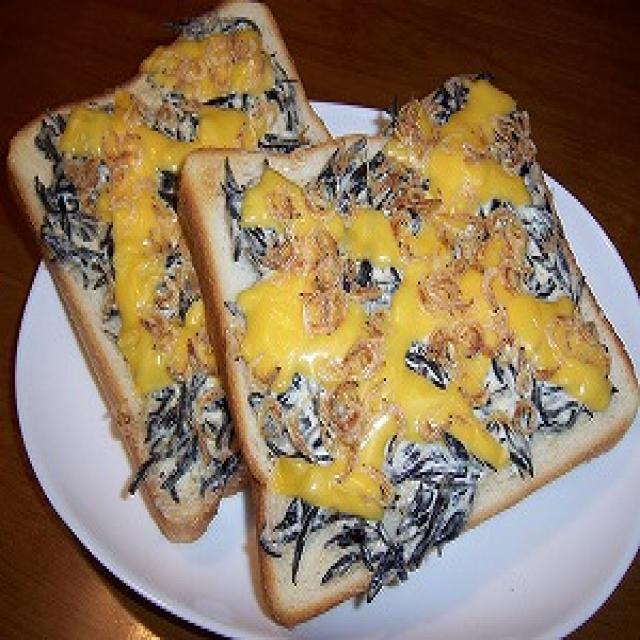面包点心: (2, 11, 634, 609)
